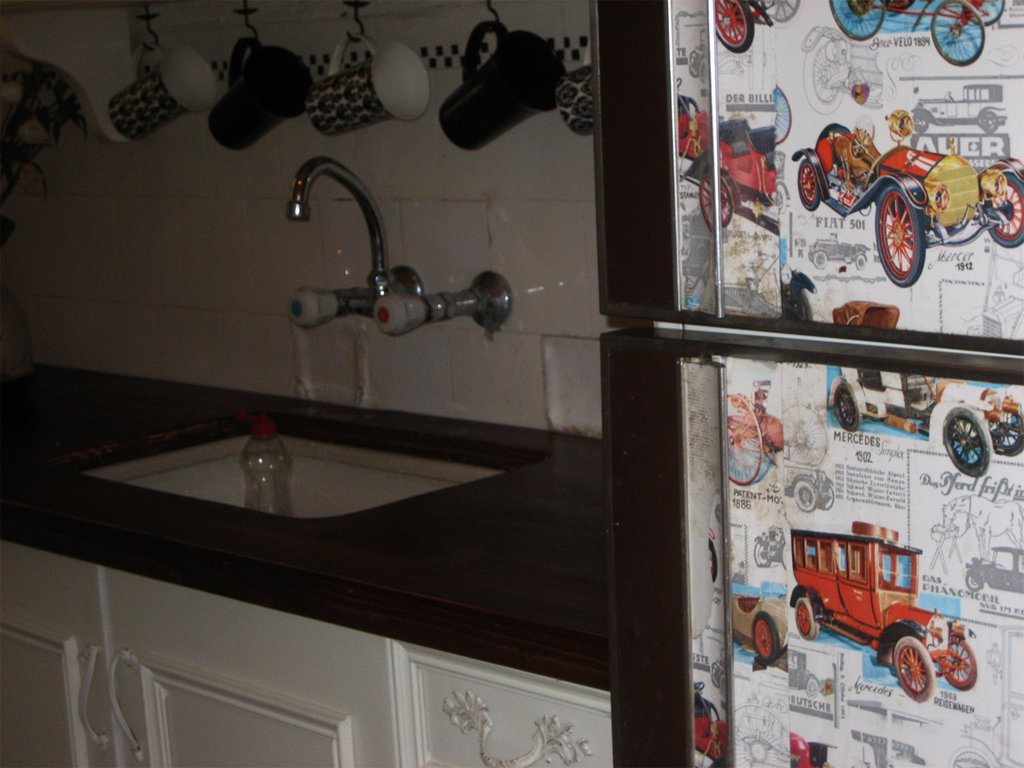tap: (290, 161, 522, 363)
